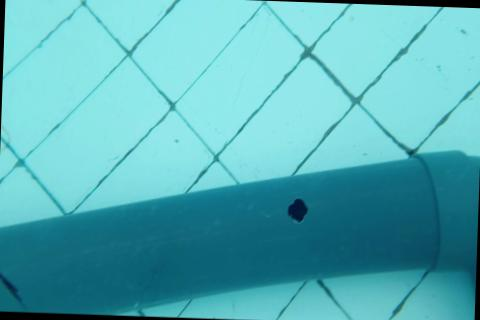kebocoran: (285, 195, 309, 224)
keretakan: (0, 259, 27, 307)
